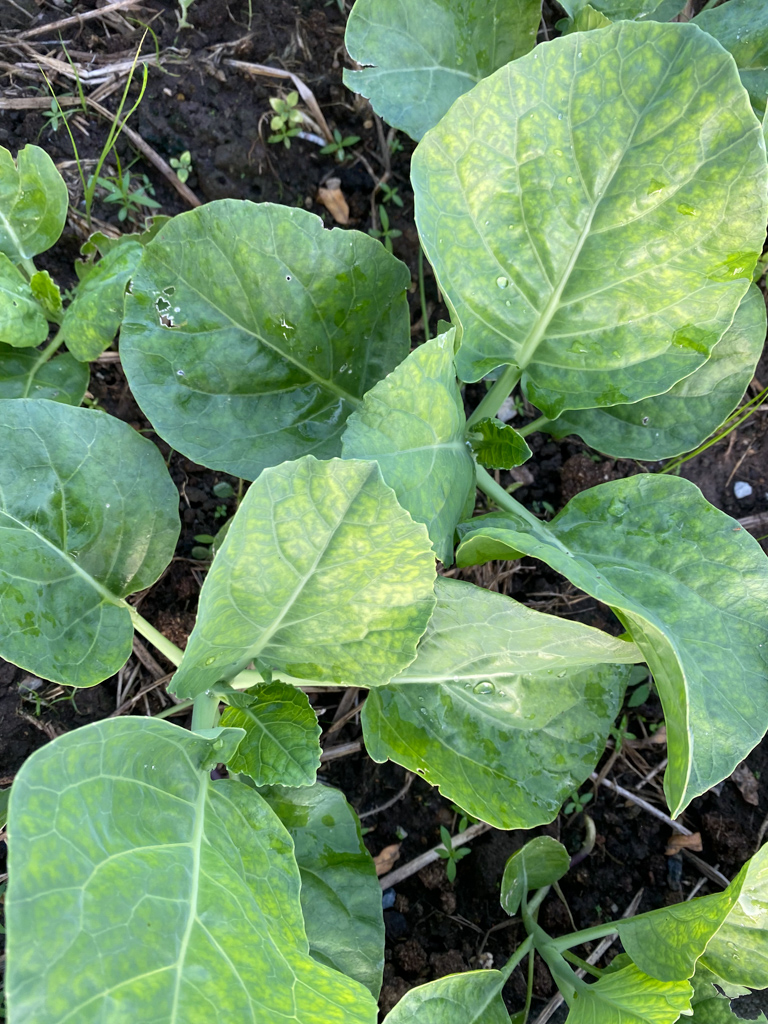Pepper yellow leaf: (447, 44, 746, 365), (257, 470, 422, 668), (206, 889, 362, 1020)
